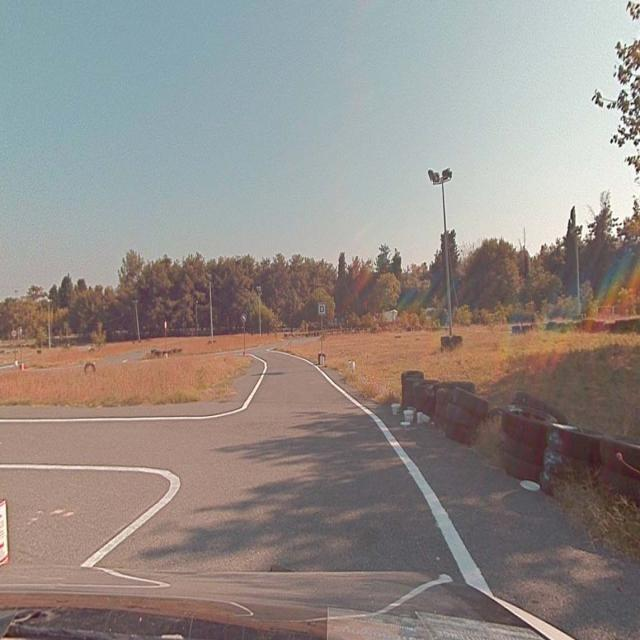durak: (319, 304, 325, 314)
